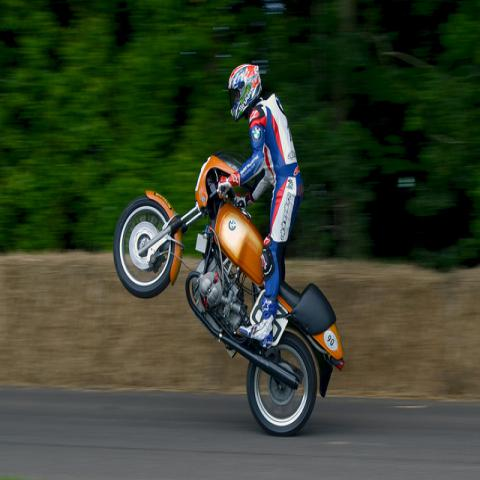motorcycle: (113, 151, 345, 436)
